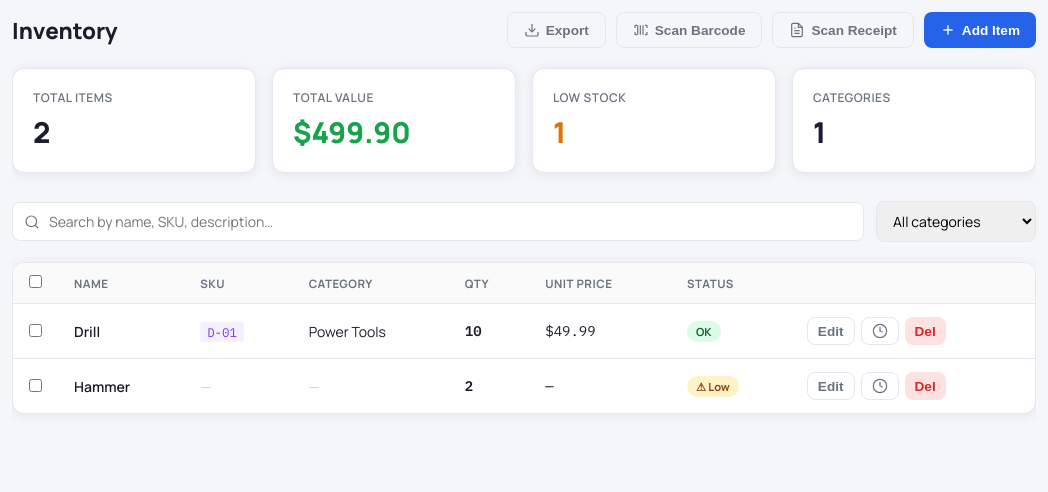
Test case: InventoryPage — bulk selection › select-all checks every row
Check: the text "Drill" is shown, box [74,322,100,340]
Click the checkbox next to "Name": (36, 282) [29,275,42,288]
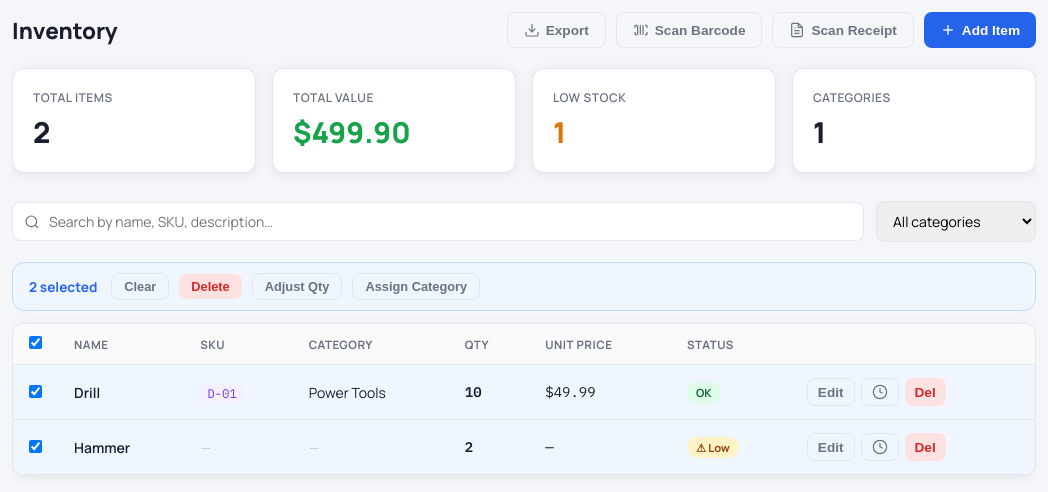
Check: the text "2 selected" is shown, box [29,278,97,296]
Check: the checkbox next to "Drill" is checked, box [29,384,42,398]
Check: the checkbox next to "Hammer" is checked, box [29,440,42,452]
